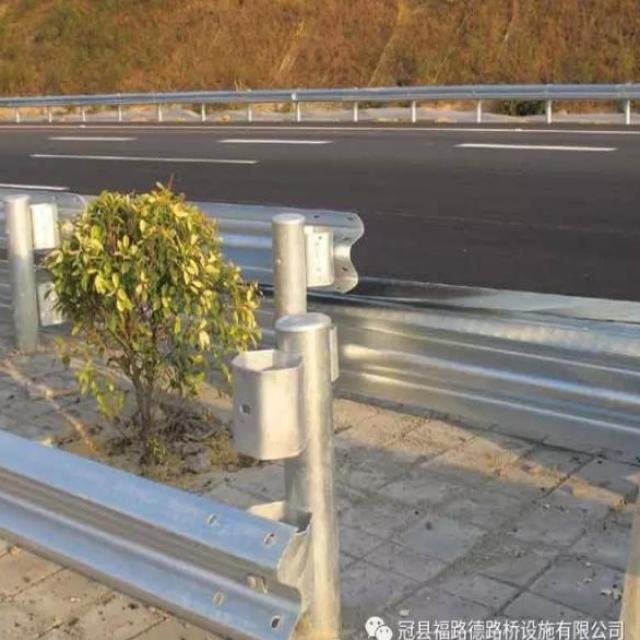Guard rail: (0, 429, 309, 640), (0, 83, 640, 122), (196, 203, 364, 292), (0, 187, 87, 250), (257, 296, 274, 344)
